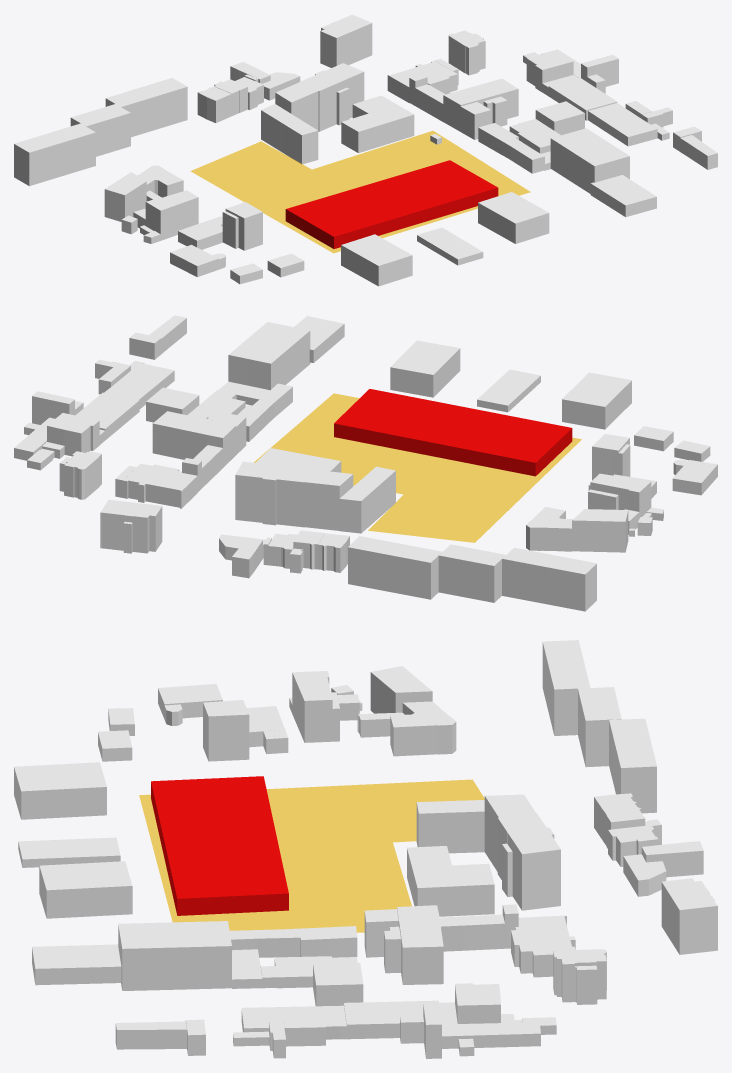
Rendered from Area_1.gltf.
3 views of the same model, one above another, from view 1: azimuth 30°, elevation 25°; view 2: azimuth 150°, elevation 25°; view 3: azimuth 270°, elevation 25° (orthographic). The views are drawn at different scales.
Visible parts, largest first — view 1: SketchUp, BuildingPart13.lod1Solid, BuildingPart16.lod1Solid, Building104.lod1Solid, Building77.lod1Solid, BuildingPart122.lod1Solid, BuildingPart17.lod1Solid, BuildingPart231.lod1Solid, BuildingPart73.lod1Solid, Building26.lod1Solid, BuildingPart94.lod1Solid, Building112.lod1Solid (+29 smaller); view 2: SketchUp, BuildingPart16.lod1Solid, BuildingPart13.lod1Solid, Building77.lod1Solid, Building104.lod1Solid, Building26.lod1Solid, BuildingPart94.lod1Solid, BuildingPart231.lod1Solid, BuildingPart17.lod1Solid, BuildingPart32.lod1Solid, Building126.lod1Solid, Building57.lod1Solid (+27 smaller); view 3: SketchUp, Building104.lod1Solid, BuildingPart16.lod1Solid, BuildingPart231.lod1Solid, Building77.lod1Solid, BuildingPart13.lod1Solid, Building112.lod1Solid, BuildingPart17.lod1Solid, BuildingPart94.lod1Solid, Building57.lod1Solid, BuildingPart122.lod1Solid, BuildingPart79.lod1Solid (+32 smaller).
Part boxes in pixels (x1=…): SketchUp: x1=190, y1=131, x2=549, y2=286; BuildingPart13.lod1Solid: x1=14, y1=123, x2=95, y2=186; BuildingPart16.lod1Solid: x1=275, y1=63, x2=364, y2=131; Building104.lod1Solid: x1=550, y1=128, x2=629, y2=193; Building77.lod1Solid: x1=105, y1=78, x2=187, y2=137; BuildingPart122.lod1Solid: x1=341, y1=104, x2=414, y2=153; BuildingPart17.lod1Solid: x1=261, y1=104, x2=318, y2=164; BuildingPart231.lod1Solid: x1=320, y1=14, x2=372, y2=67; BuildingPart73.lod1Solid: x1=145, y1=190, x2=198, y2=240; Building26.lod1Solid: x1=70, y1=104, x2=130, y2=156; BuildingPart94.lod1Solid: x1=443, y1=78, x2=518, y2=131; Building112.lod1Solid: x1=590, y1=175, x2=656, y2=217; SketchUp: x1=254, y1=340, x2=631, y2=542; BuildingPart16.lod1Solid: x1=235, y1=461, x2=353, y2=530; BuildingPart13.lod1Solid: x1=502, y1=547, x2=596, y2=611; Building77.lod1Solid: x1=348, y1=536, x2=442, y2=599; Building104.lod1Solid: x1=228, y1=322, x2=310, y2=390; Building26.lod1Solid: x1=438, y1=544, x2=505, y2=602; BuildingPart94.lod1Solid: x1=152, y1=411, x2=235, y2=467; BuildingPart231.lod1Solid: x1=100, y1=499, x2=162, y2=553; BuildingPart17.lod1Solid: x1=339, y1=466, x2=395, y2=533; BuildingPart32.lod1Solid: x1=122, y1=465, x2=197, y2=508; Building126.lod1Solid: x1=572, y1=509, x2=628, y2=552; Building57.lod1Solid: x1=526, y1=507, x2=573, y2=551; SketchUp: x1=14, y1=762, x2=484, y2=932; Building104.lod1Solid: x1=118, y1=921, x2=231, y2=990; BuildingPart16.lod1Solid: x1=484, y1=794, x2=560, y2=910; BuildingPart231.lod1Solid: x1=661, y1=878, x2=717, y2=954; Building77.lod1Solid: x1=609, y1=718, x2=656, y2=813; BuildingPart13.lod1Solid: x1=542, y1=640, x2=590, y2=735; Building112.lod1Solid: x1=32, y1=944, x2=121, y2=985; BuildingPart17.lod1Solid: x1=416, y1=800, x2=484, y2=853; BuildingPart94.lod1Solid: x1=397, y1=905, x2=443, y2=984; Building57.lod1Solid: x1=390, y1=701, x2=456, y2=756; BuildingPart122.lod1Solid: x1=407, y1=846, x2=457, y2=916; BuildingPart79.lod1Solid: x1=203, y1=700, x2=249, y2=761.
Size of the model in its own units: 281 by 20.29 by 224.
